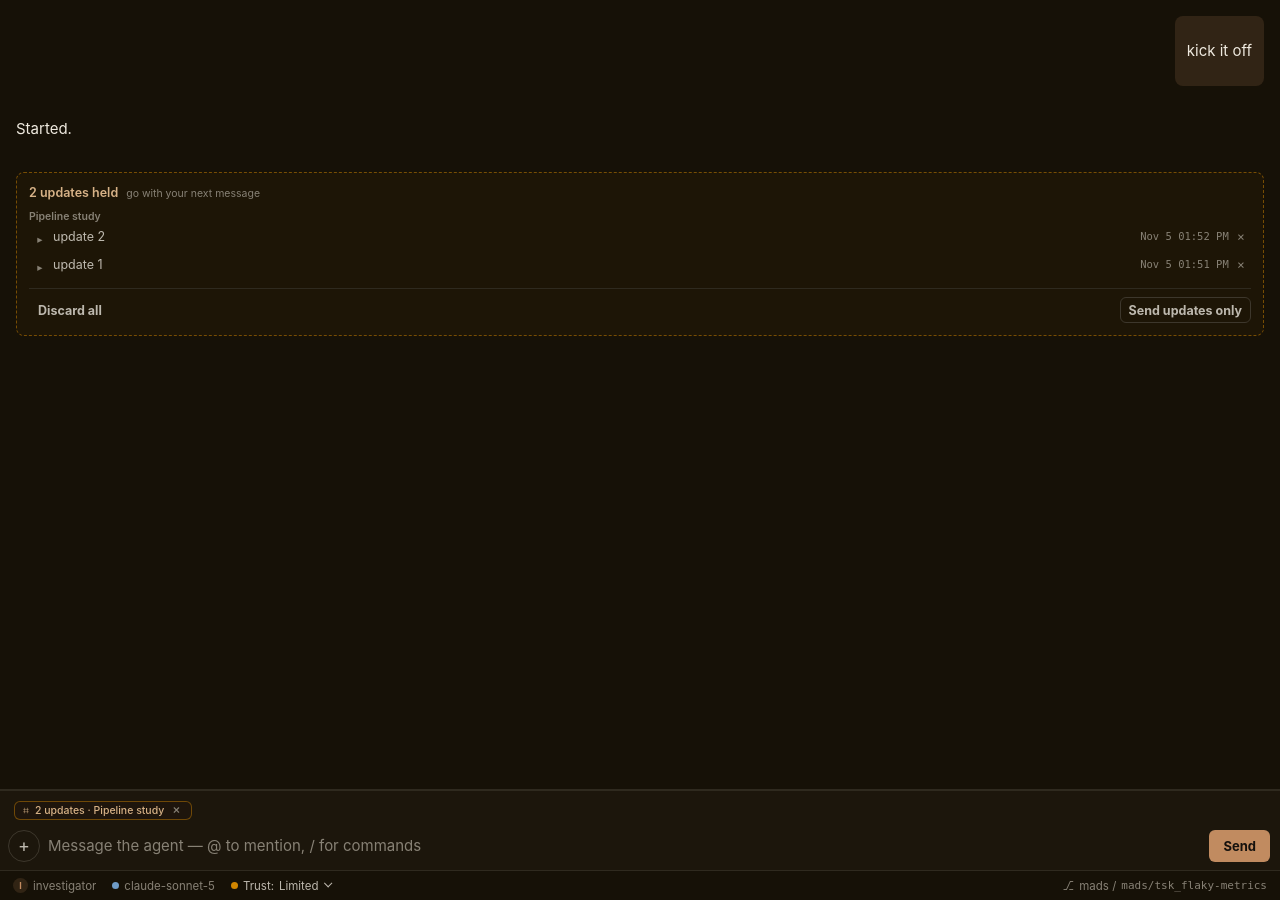
Test: ConversationTab — held updates › discards them all from the composer chip
The width and height of the screenshot is (1280, 900).
Click the button named "Discard all 2 updates" at (176, 810), box x1=170 y1=804 x2=183 y2=816
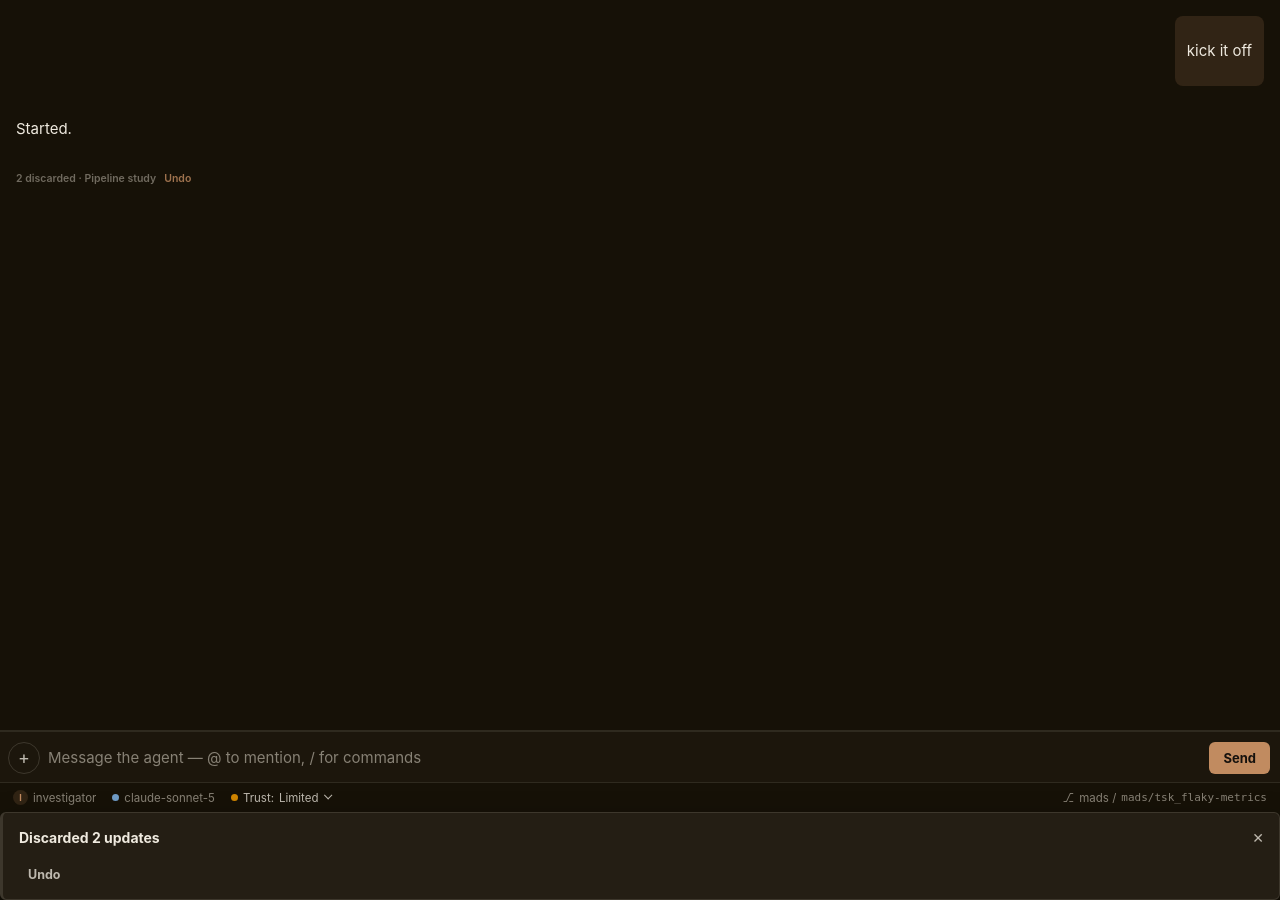
expect the element with test id "held-chip" is gone: met
expect the text "Discarded 2 updates" is shown: met, box x1=19 y1=829 x2=160 y2=846
expect the text "2 discarded · Pipeline study" is shown: met, box x1=16 y1=172 x2=156 y2=185
